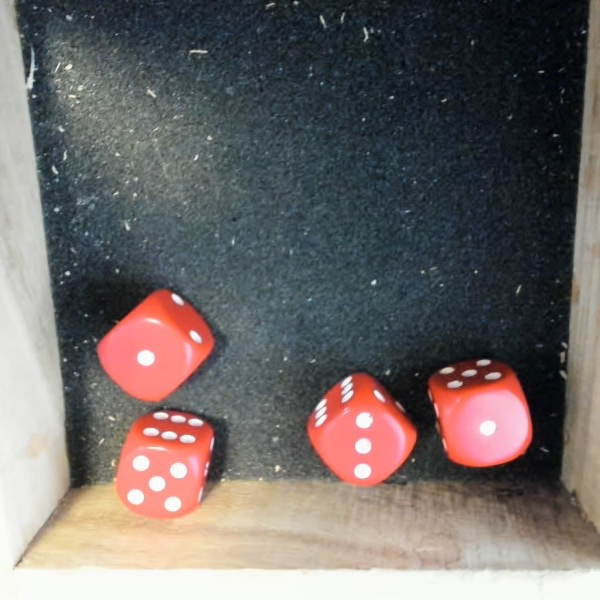red_die_pip1: (87, 276, 231, 419), (415, 349, 542, 479)
red_die_pip3: (291, 364, 429, 504)
red_die_pip5: (114, 403, 221, 527)
